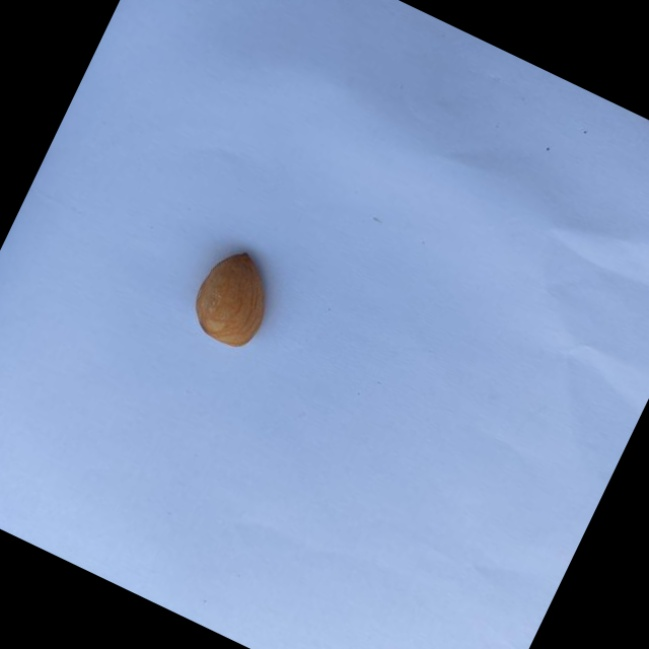grade2: (178, 238, 294, 360)
